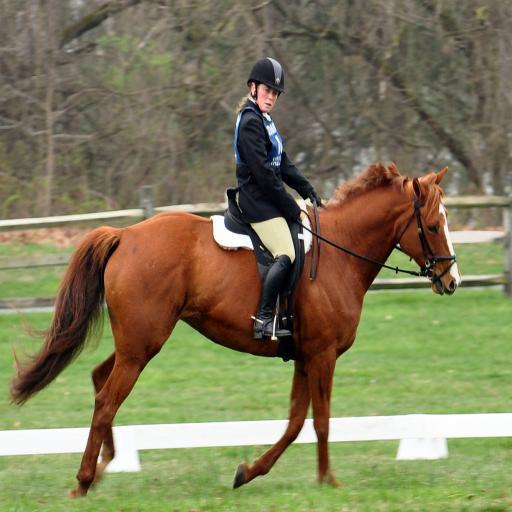horse: (7, 158, 462, 500)
